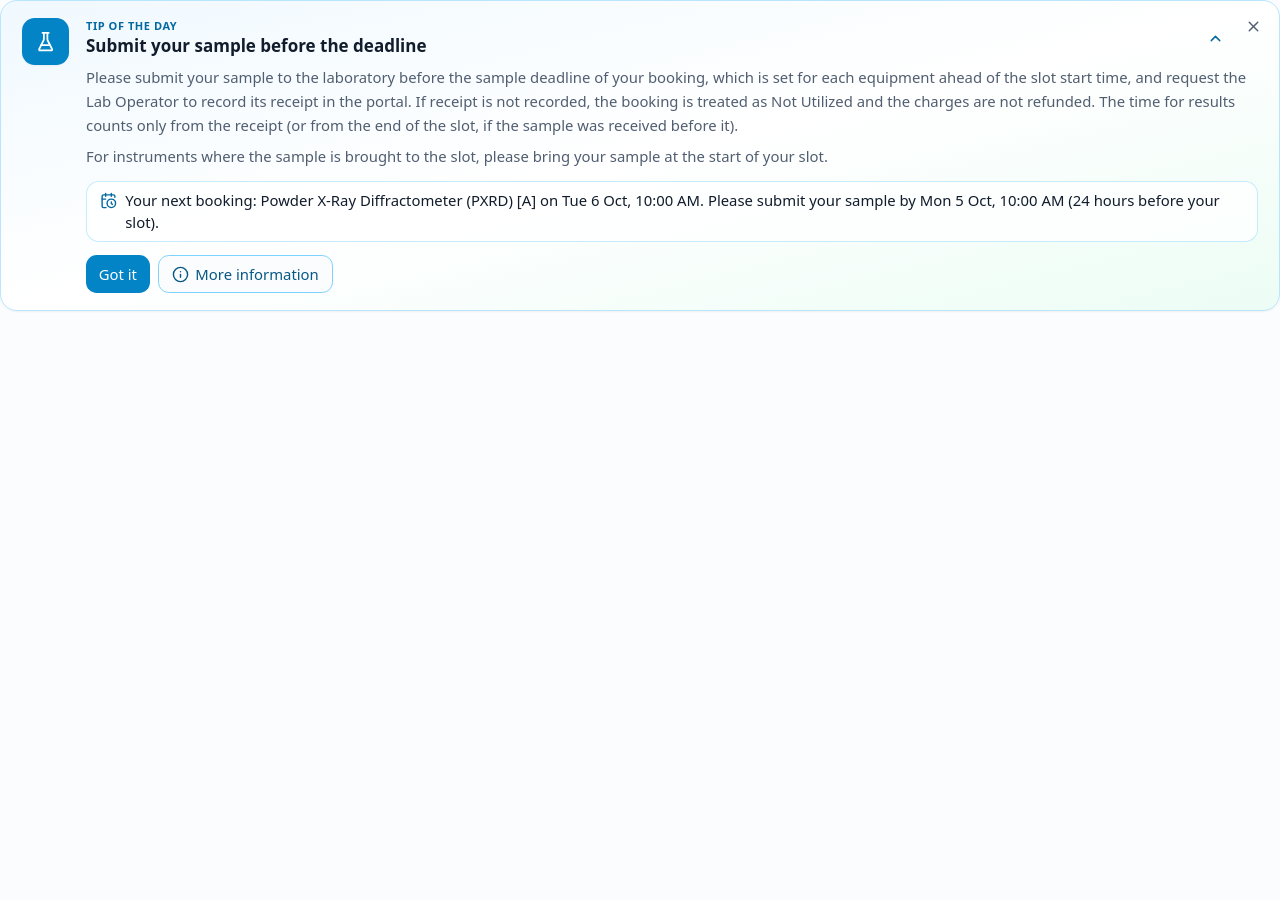
Test case: LoginTipCard › uses the student's own next booking as the worked example
The width and height of the screenshot is (1280, 900).
Click the button "More information" at (245, 274), box [158,255,332,293]
(page scrolled)
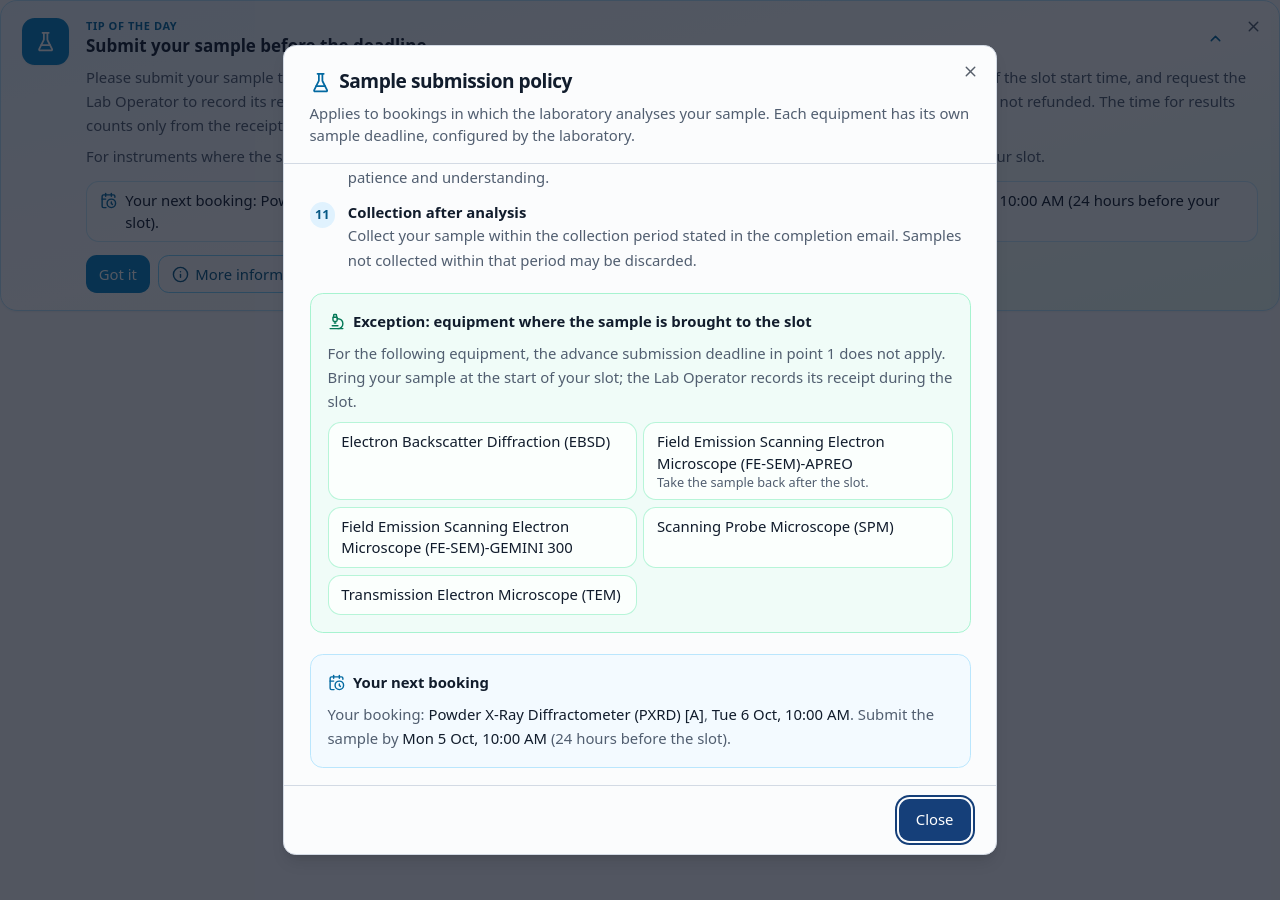
Expected: the element with test id "sample-policy-example" shows "Your booking: Powder X-Ray Diffractometer (PXRD) [A], Tue 6 Oct, 10:00 AM. Submit the sample by Mon 5 Oct, 10:00 AM (24 hours before the slot).", [328,702,952,750]
Expected: the heading "Your next booking" is shown, [328,672,489,692]
